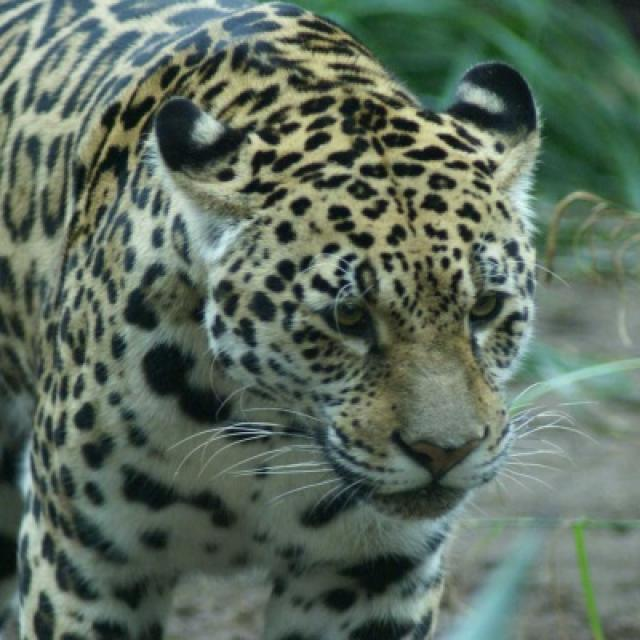Jaguar: (0, 0, 544, 638)
